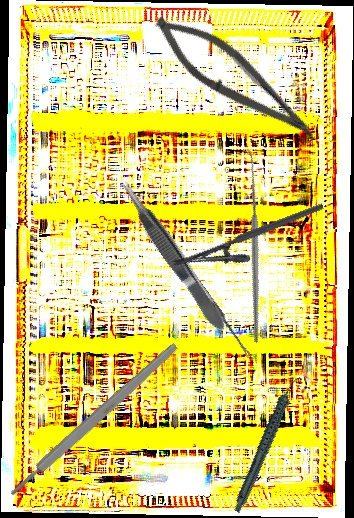Handpiece: (207, 374, 328, 514)
Hook Surgical: (164, 149, 337, 344)
Micro Scissor: (140, 2, 332, 152)
Needle Holder: (171, 202, 333, 288)
Scalpel Handle: (7, 340, 180, 499)
Surgical Spoon: (154, 226, 254, 360)
Tissue Forceps: (113, 173, 232, 337)
